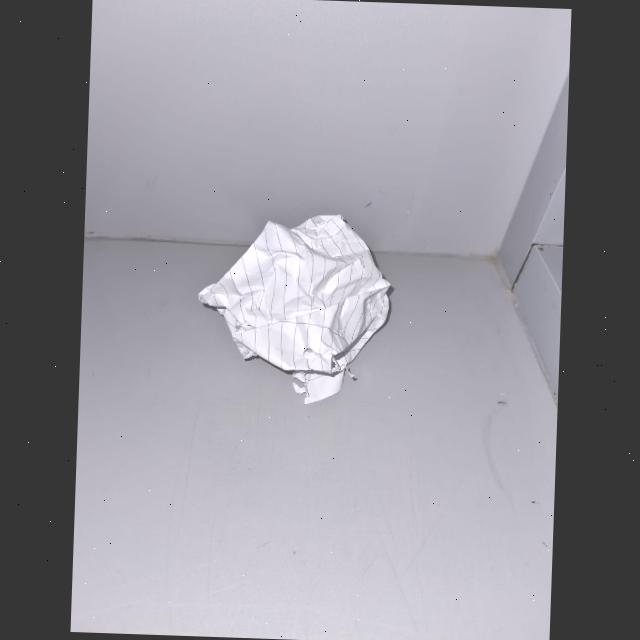trash: (192, 202, 394, 408)
